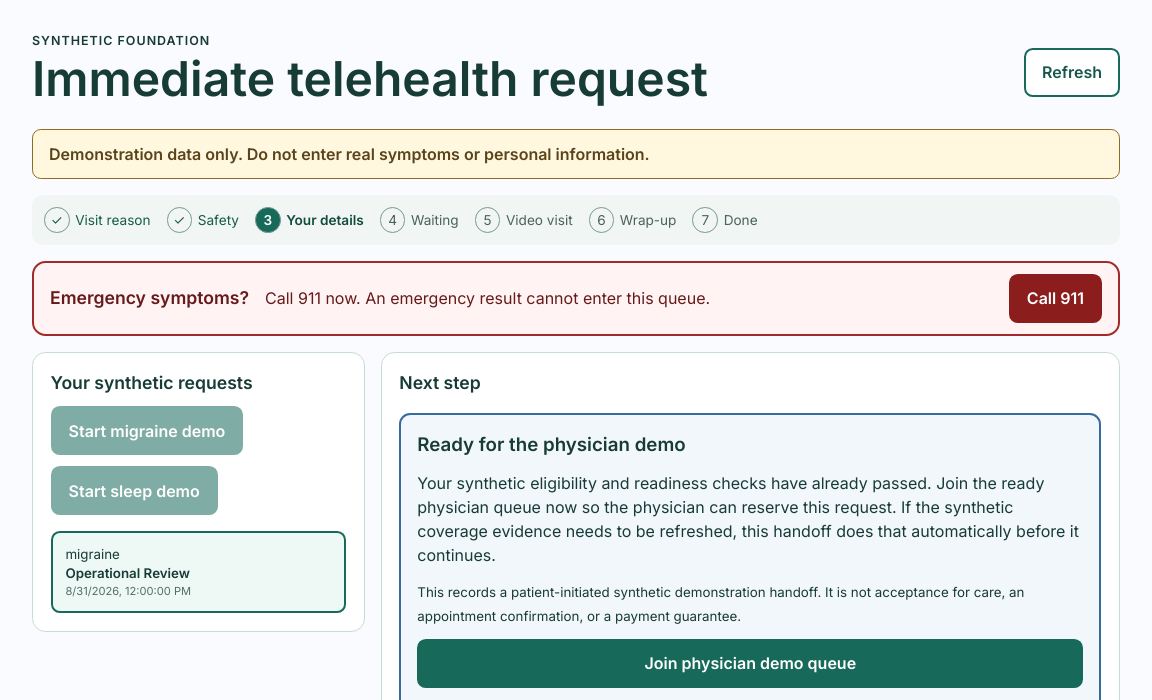
Scenario: PatientTelehealthWorkspace › lets an operational-review request join the physician demo queue with its current version
Click the button "Join physician demo queue" at coordinates (750, 663), box [417,639,1083,688]
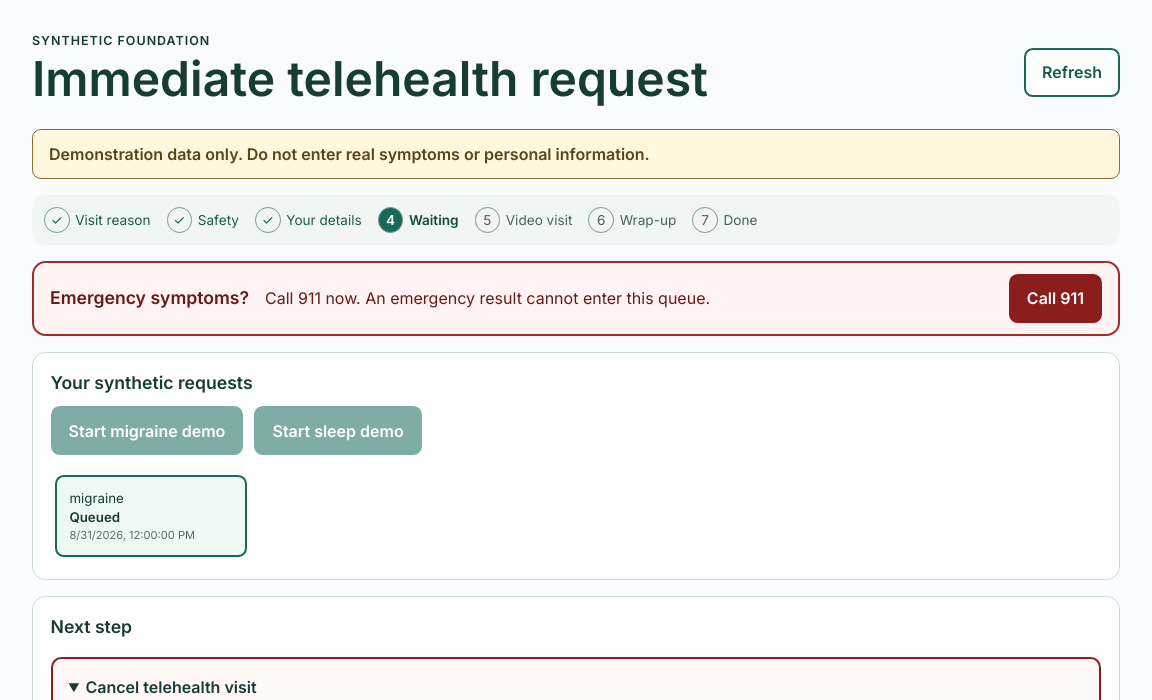
Check: the text "Queued" is shown, box [69,509,120,525]
Check: the button "Join physician demo queue" is gone
